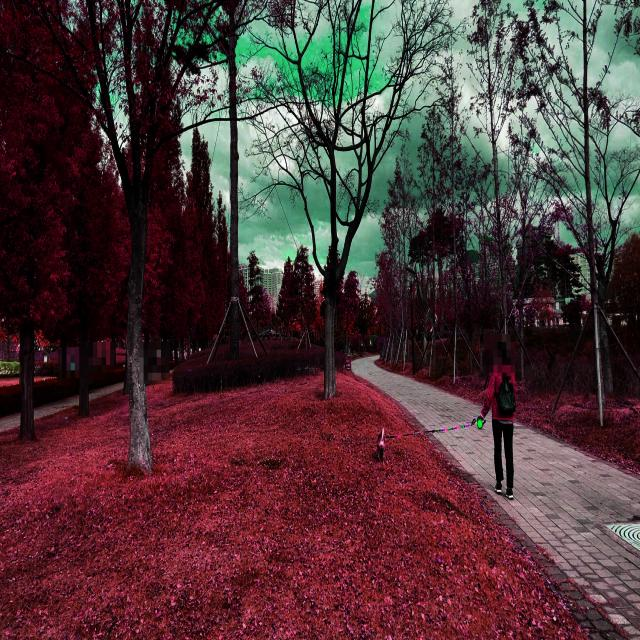Leashed_Dog: (377, 414, 501, 465)
